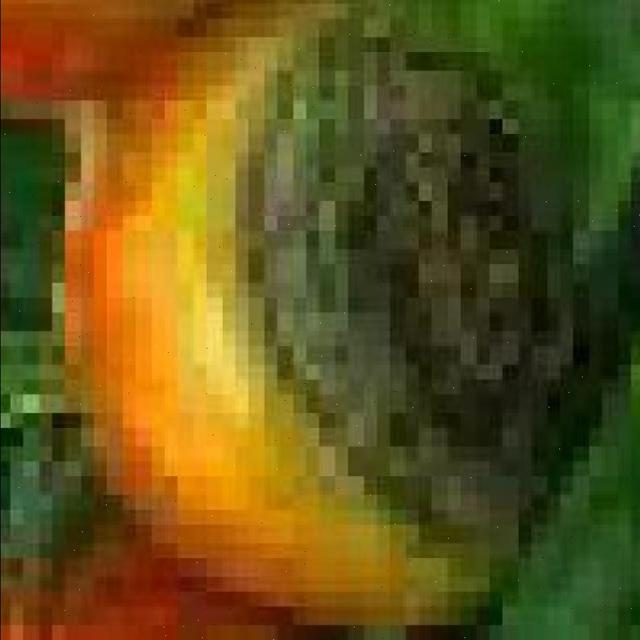Blossom End Rot Fruit: (103, 12, 427, 404)
